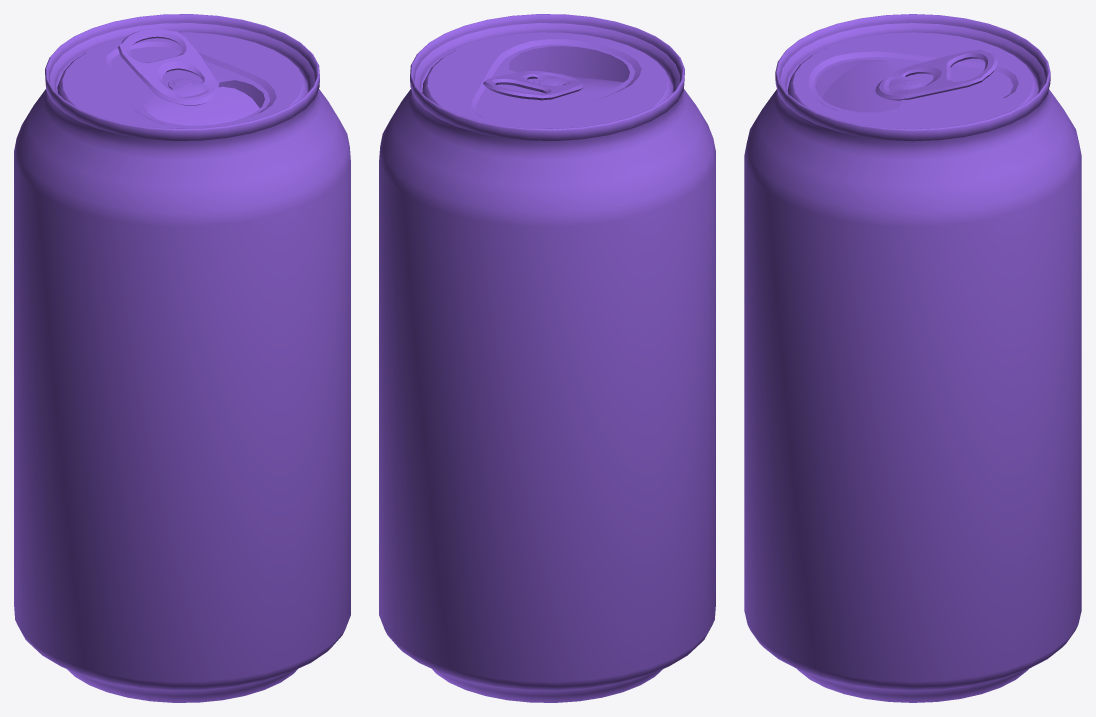
Rendered from prueba.glb.
3 views of the same model, side by side, from view 1: azimuth 30°, elevation 25°; view 2: azimuth 150°, elevation 25°; view 3: azimuth 270°, elevation 25° (orthographic).
Visible parts, largest first — view 1: Cylinder.001; view 2: Cylinder.001; view 3: Cylinder.001.
Part boxes in pixels (<box>): Cylinder.001: <box>14,14,350,702</box>; Cylinder.001: <box>379,14,715,702</box>; Cylinder.001: <box>744,14,1081,702</box>.
Size of the model in its own units: 1.71 by 3.3 by 1.71.
